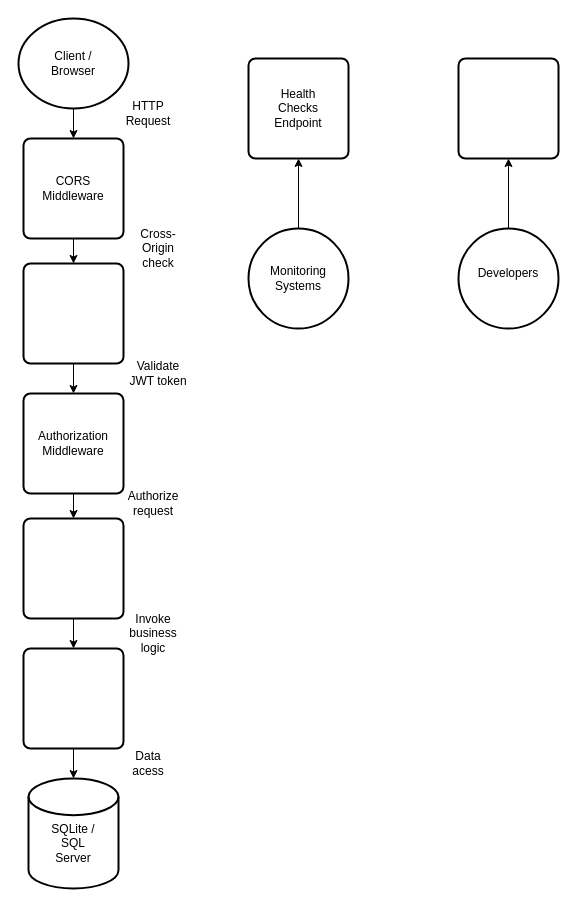
Image size: 576x906. Some labels were removed from this diagram. Here are the shapes that lost their labels. From the top down, the box of each, then its label:
(457, 57, 559, 159): Swagger UI
(22, 262, 124, 364): JWT Authentication Middleware
(22, 517, 124, 619): Minimal API Endpoints
(22, 647, 124, 749): EF Core
